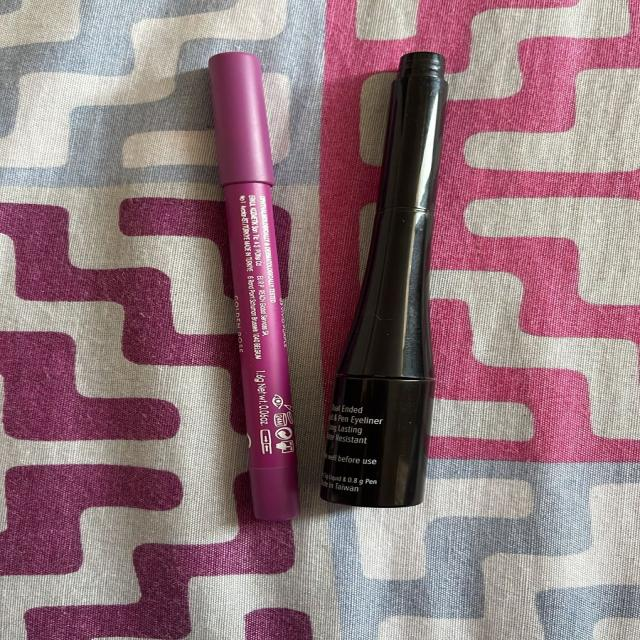lip liner: (318, 37, 496, 524), (181, 35, 306, 538)
